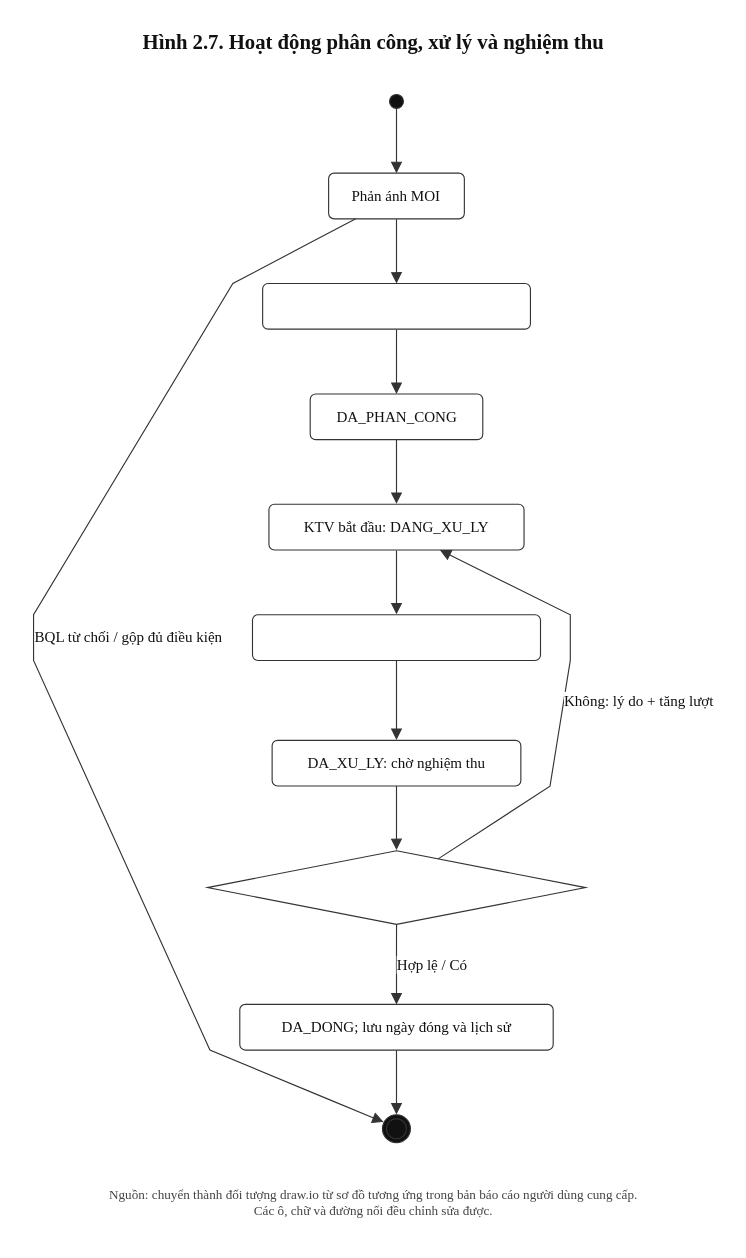
This 746x1258 diagram has some shape labels left out. Here are the shapes that lost their labels. From the top down, the centre of each, then its label:
At (396,305): "BQL phân công KTV và ưu tiên".
At (396,637): "Nộp kết quả và ảnh mới đúng lượt".
At (396,887): "BQL nghiệm thu đạt?".
